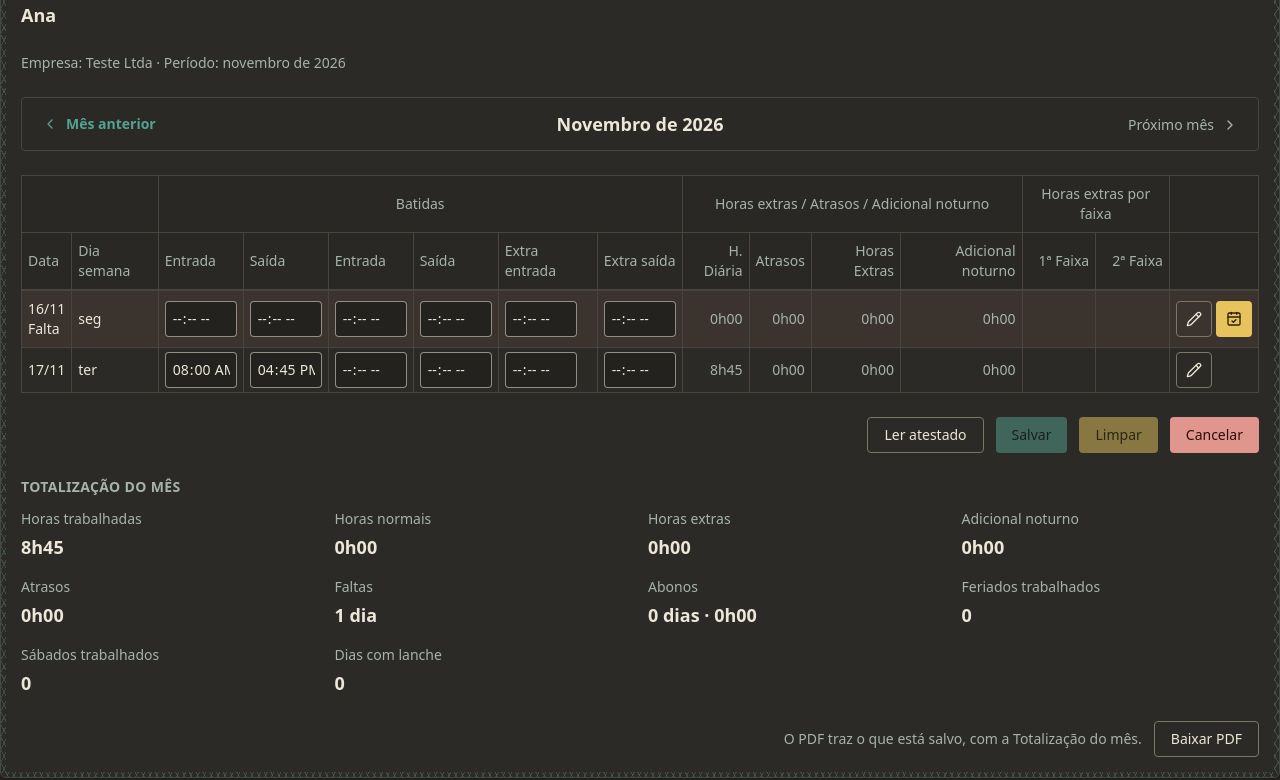
CartaoDePontoContainer › Baixar PDF com erro do servidor mostra o motivo e não entrega arquivo
Click the button "Baixar PDF". click: [1206, 739]
box: [1154, 721, 1259, 757]
(page scrolled)
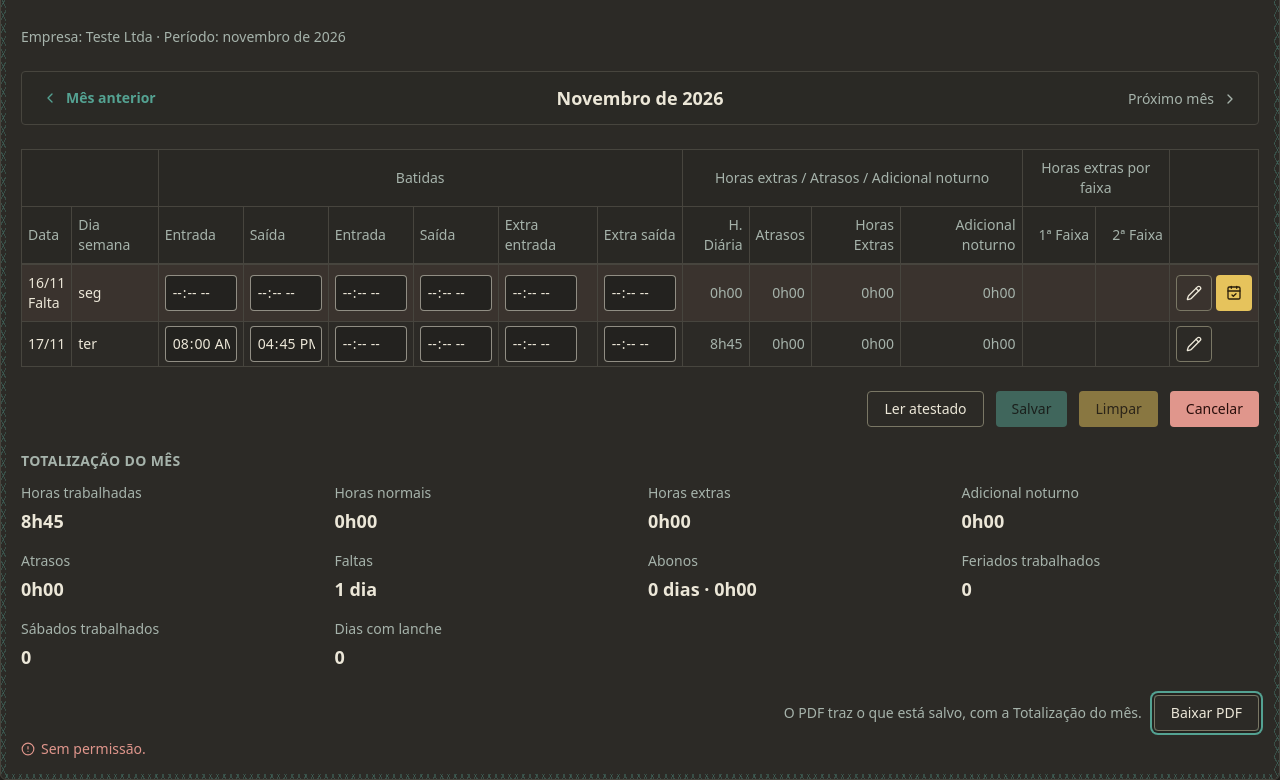
Check: the text "Sem permissão." is shown, box [41, 739, 146, 759]
